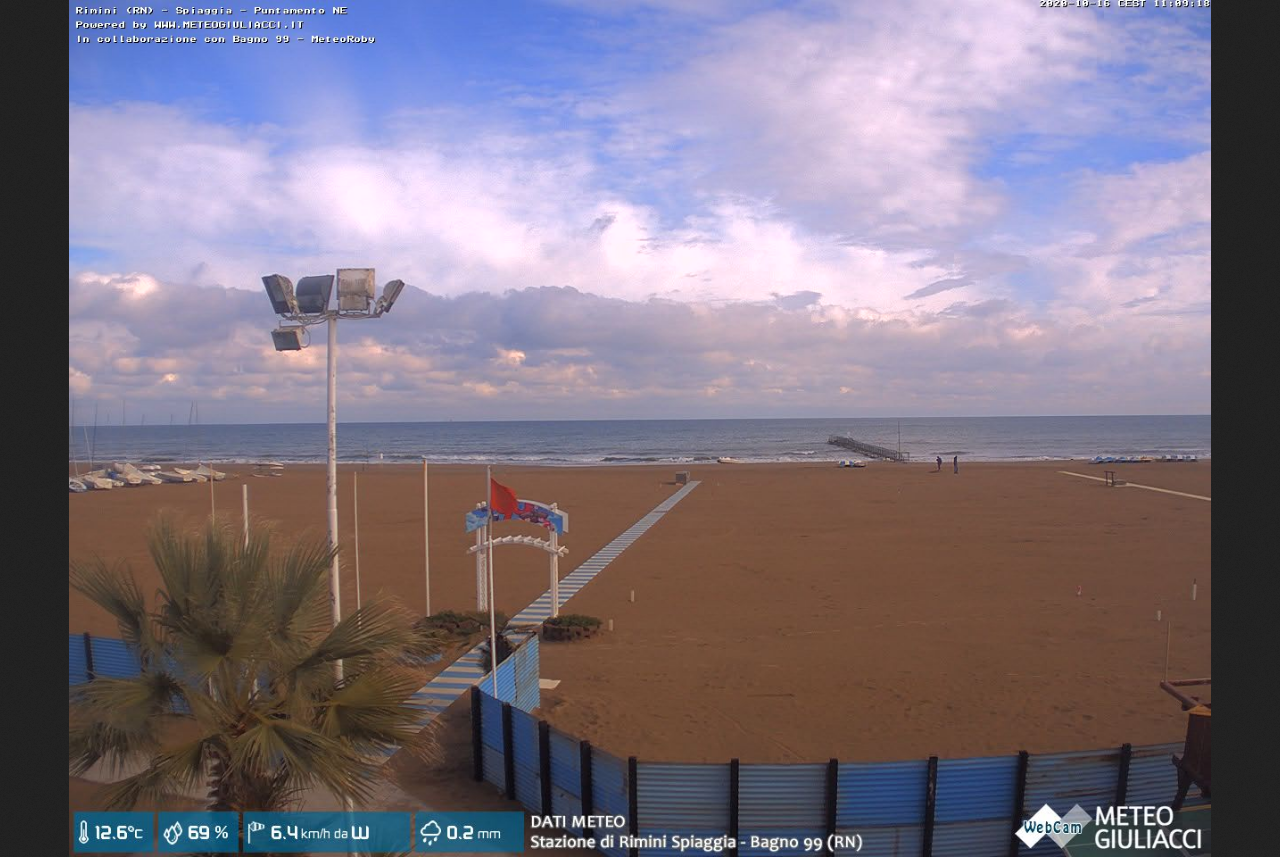yes: (488, 477, 518, 521)
